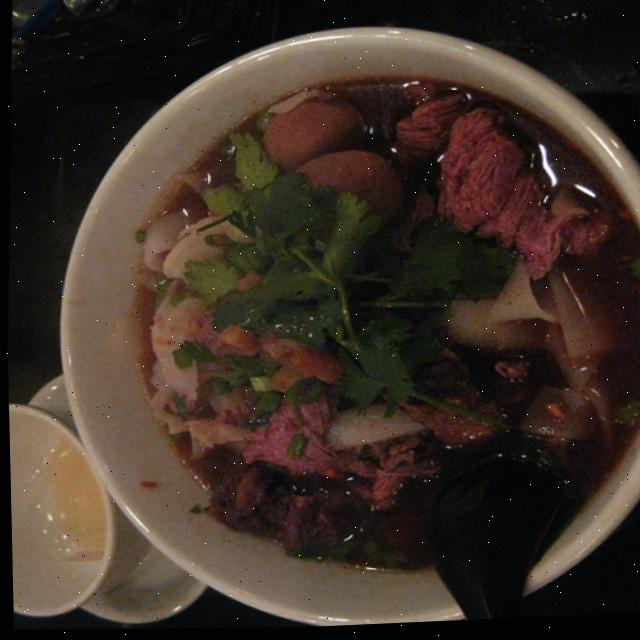面条主食: (67, 45, 640, 638)
